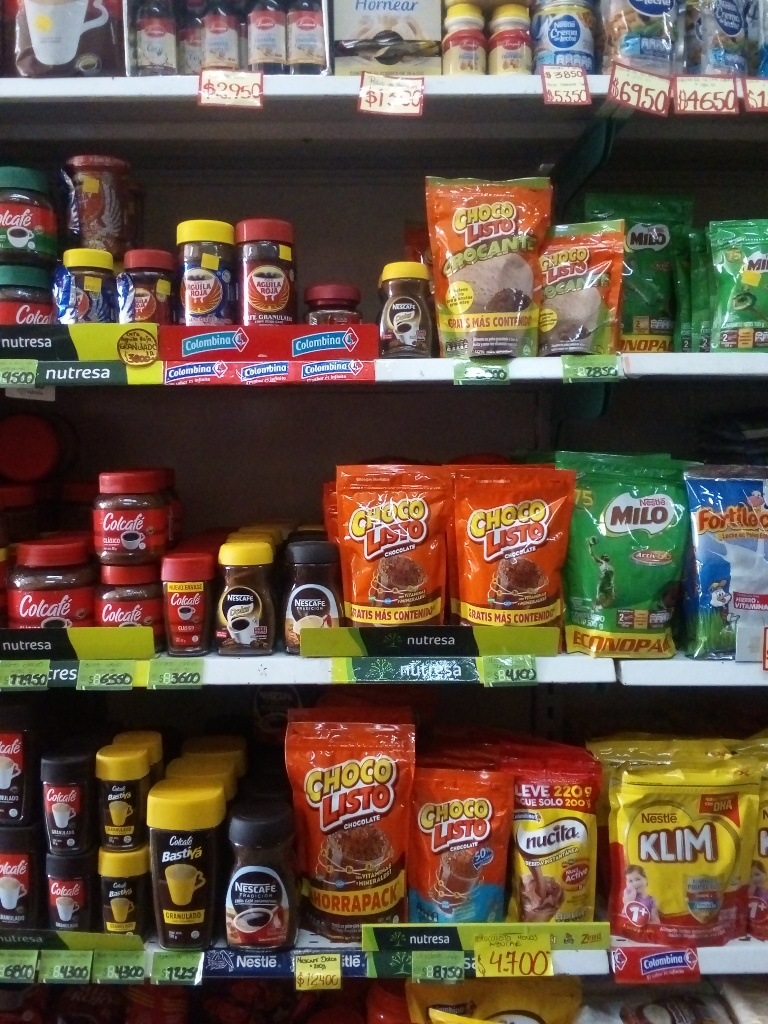COL0170102DYP10000: (533, 222, 627, 353)
COL0170103DYP36000: (290, 718, 414, 949)
COL0170104DYP20000: (403, 764, 521, 942)
COL0170203DYP10000: (698, 219, 764, 350)
COL0170203DYP25000: (590, 186, 698, 354)
COL0170203DYP50000: (555, 452, 694, 667)
